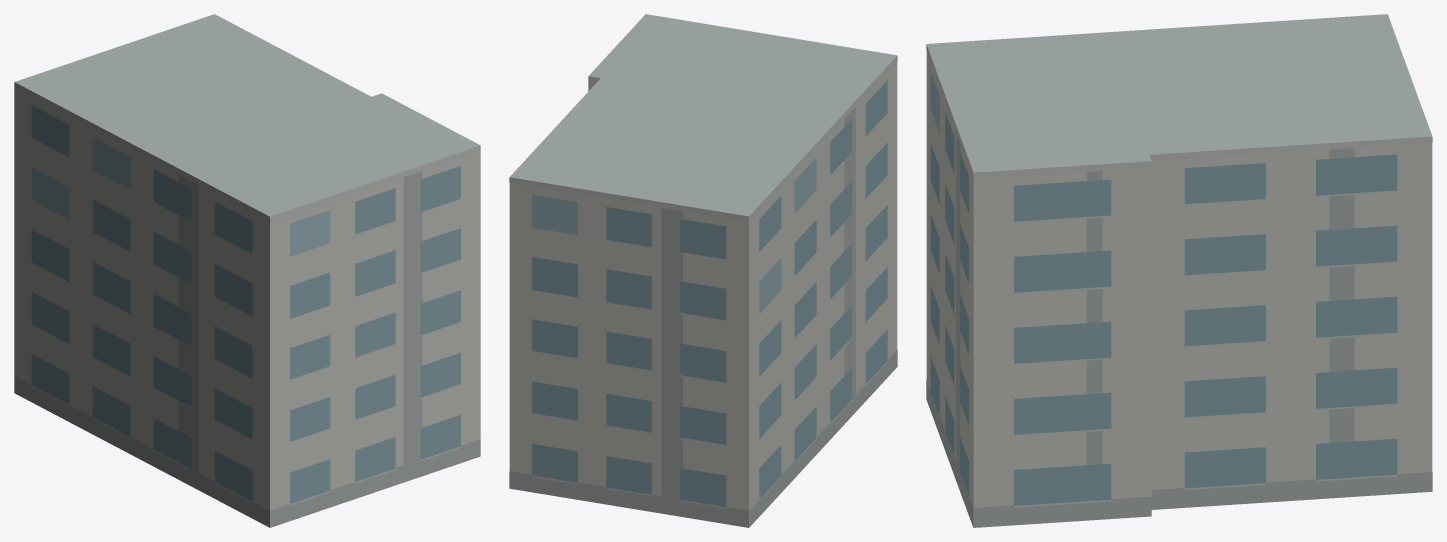
Rendered from survey-upis-32974447.glb.
3 renders of one model, left to right at view 1: azimuth 30°, elevation 25°; view 2: azimuth 150°, elevation 25°; view 3: azimuth 270°, elevation 25°, orthographic. The views are drawn at different scales.
Visible parts, largest first — view 1: survey-upis-32974447.tmp; view 2: survey-upis-32974447.tmp; view 3: survey-upis-32974447.tmp.
Part boxes in pixels (bbox=[...]): survey-upis-32974447.tmp: bbox=[14, 14, 480, 527]; survey-upis-32974447.tmp: bbox=[509, 14, 897, 527]; survey-upis-32974447.tmp: bbox=[926, 14, 1432, 527].
Bounding box in the file's own units: 12.46 × 13 × 16.79.
